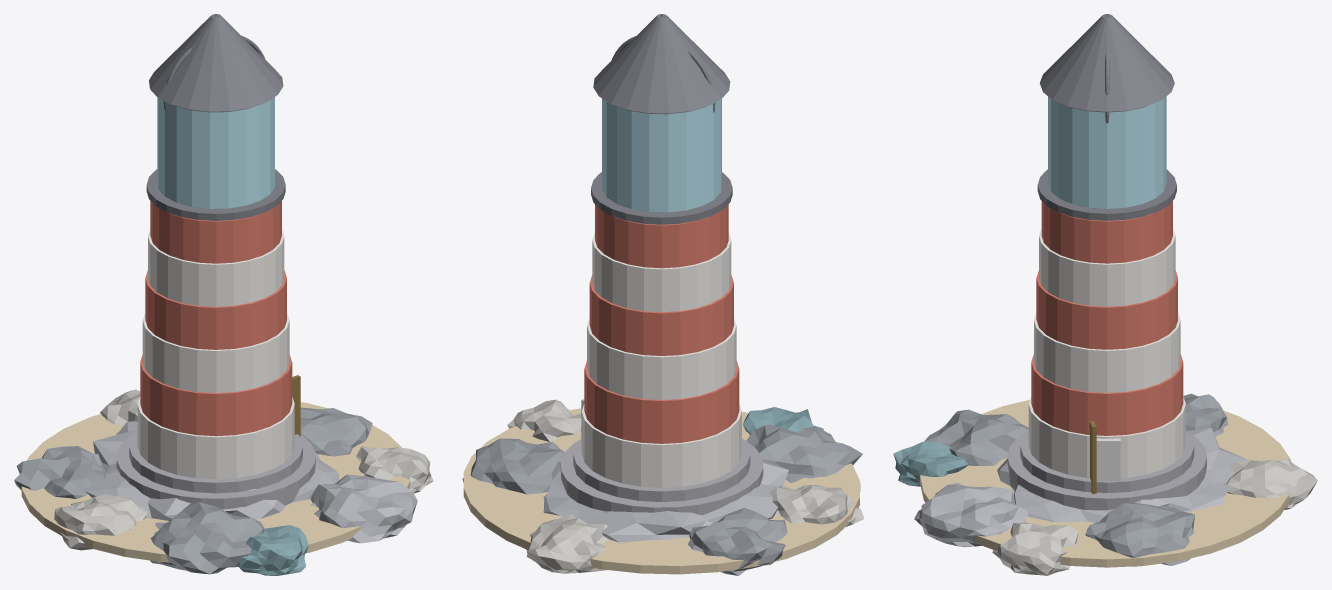
The model's file is grotto_lighthouse_LOD0_roblox.fbx.
3 renders of one model, left to right at view 1: azimuth 30°, elevation 25°; view 2: azimuth 150°, elevation 25°; view 3: azimuth 270°, elevation 25°, orthographic.
Visible parts, largest first — view 1: lighthouse_LanternGlass, lighthouse_Island_SandShelf, lighthouse_Roof, lighthouse_Tower_White_01, lighthouse_Tower_Red_02, lighthouse_Tower_White_03, lighthouse_Tower_Red_04, lighthouse_Tower_White_05, lighthouse_Tower_Red_06, lighthouse_Island_Boulder_03, lighthouse_Island_Boulder_04, lighthouse_Island_Core (+9 smaller); view 2: lighthouse_Island_SandShelf, lighthouse_LanternGlass, lighthouse_Roof, lighthouse_Tower_White_01, lighthouse_Tower_Red_02, lighthouse_Tower_White_03, lighthouse_Tower_Red_04, lighthouse_Tower_White_05, lighthouse_Island_Core, lighthouse_Tower_Red_06, lighthouse_Island_Boulder_02, lighthouse_Island_Boulder_03 (+8 smaller); view 3: lighthouse_LanternGlass, lighthouse_Island_SandShelf, lighthouse_Roof, lighthouse_Tower_Red_02, lighthouse_Tower_White_03, lighthouse_Tower_Red_04, lighthouse_Tower_White_05, lighthouse_Tower_White_01, lighthouse_Tower_Red_06, lighthouse_Island_Boulder_04, lighthouse_Island_Core, lighthouse_Island_Boulder_01 (+9 smaller).
Part boxes in pixels (x1,y1,x2,y2): lighthouse_LanternGlass: (157, 97, 274, 208); lighthouse_Island_SandShelf: (21, 402, 410, 562); lighthouse_Roof: (149, 14, 283, 111); lighthouse_Tower_White_01: (137, 396, 294, 479); lighthouse_Tower_Red_02: (140, 354, 292, 436); lighthouse_Tower_White_03: (142, 312, 289, 392); lighthouse_Tower_Red_04: (145, 270, 286, 349); lighthouse_Tower_White_05: (148, 229, 284, 306); lighthouse_Tower_Red_06: (150, 201, 281, 263); lighthouse_Island_Boulder_03: (150, 501, 264, 574); lighthouse_Island_Boulder_04: (310, 474, 417, 543); lighthouse_Island_Core: (85, 421, 339, 520); lighthouse_Island_SandShelf: (463, 408, 860, 574); lighthouse_LanternGlass: (602, 98, 721, 212); lighthouse_Roof: (593, 14, 730, 113); lighthouse_Tower_White_01: (581, 404, 741, 487); lighthouse_Tower_Red_02: (584, 361, 739, 443); lighthouse_Tower_White_03: (587, 318, 736, 399); lighthouse_Tower_Red_04: (589, 275, 733, 355); lighthouse_Tower_White_05: (592, 232, 731, 312); lighthouse_Island_Core: (543, 461, 788, 542); lighthouse_Tower_Red_06: (595, 204, 728, 268); lighthouse_Island_Boulder_02: (688, 507, 787, 575); lighthouse_Island_Boulder_03: (746, 424, 862, 482); lighthouse_LanternGlass: (1048, 96, 1166, 208); lighthouse_Island_SandShelf: (920, 399, 1291, 567); lighthouse_Roof: (1039, 14, 1174, 111); lighthouse_Tower_Red_02: (1031, 354, 1183, 435); lighthouse_Tower_White_03: (1034, 312, 1180, 392); lighthouse_Tower_Red_04: (1036, 270, 1177, 349); lighthouse_Tower_White_05: (1039, 228, 1175, 306); lighthouse_Tower_White_01: (1028, 396, 1185, 478); lighthouse_Tower_Red_06: (1041, 201, 1172, 263); lighthouse_Island_Boulder_04: (914, 483, 1028, 547); lighthouse_Island_Core: (997, 427, 1248, 522); lighthouse_Island_Boulder_01: (1085, 502, 1194, 566).
Size of the model in its own units: 6.33 by 6.6 by 8.28.
